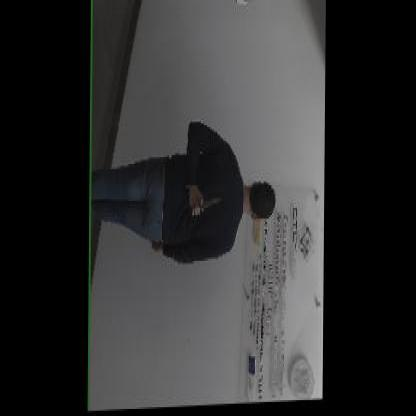knife: (190, 192, 224, 217)
